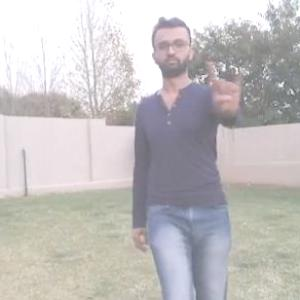takeoff-hand: (206, 55, 251, 120)
